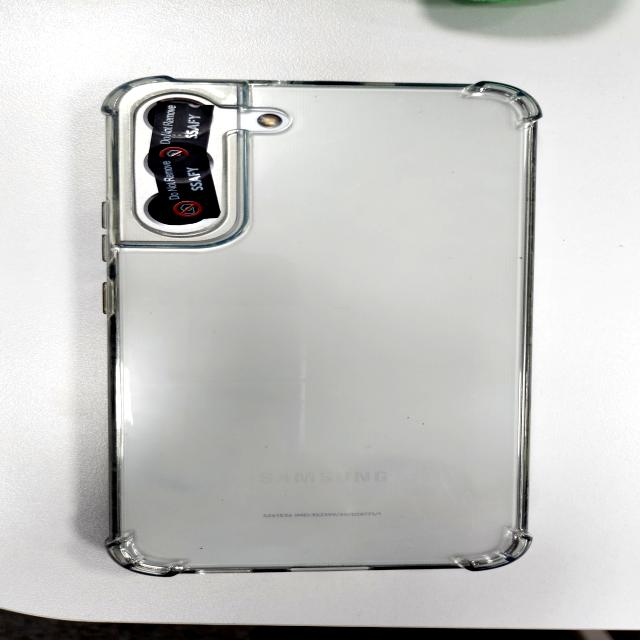phone: (102, 75, 540, 576)
sticker: (144, 156, 224, 221), (149, 102, 207, 159)
